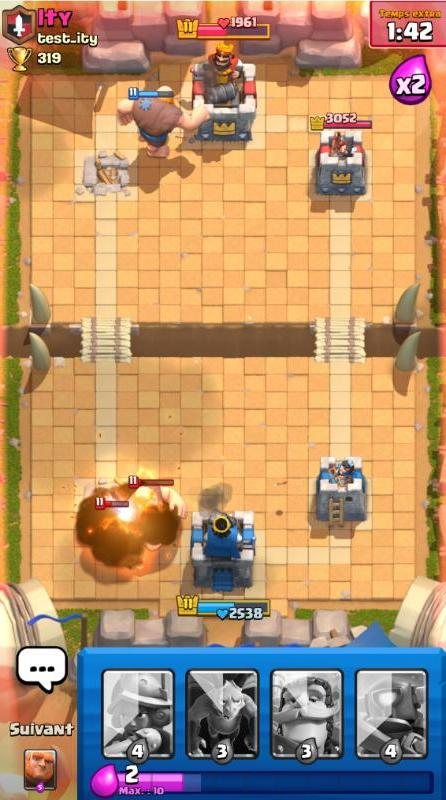geant: (116, 85, 210, 157), (127, 475, 188, 552)
